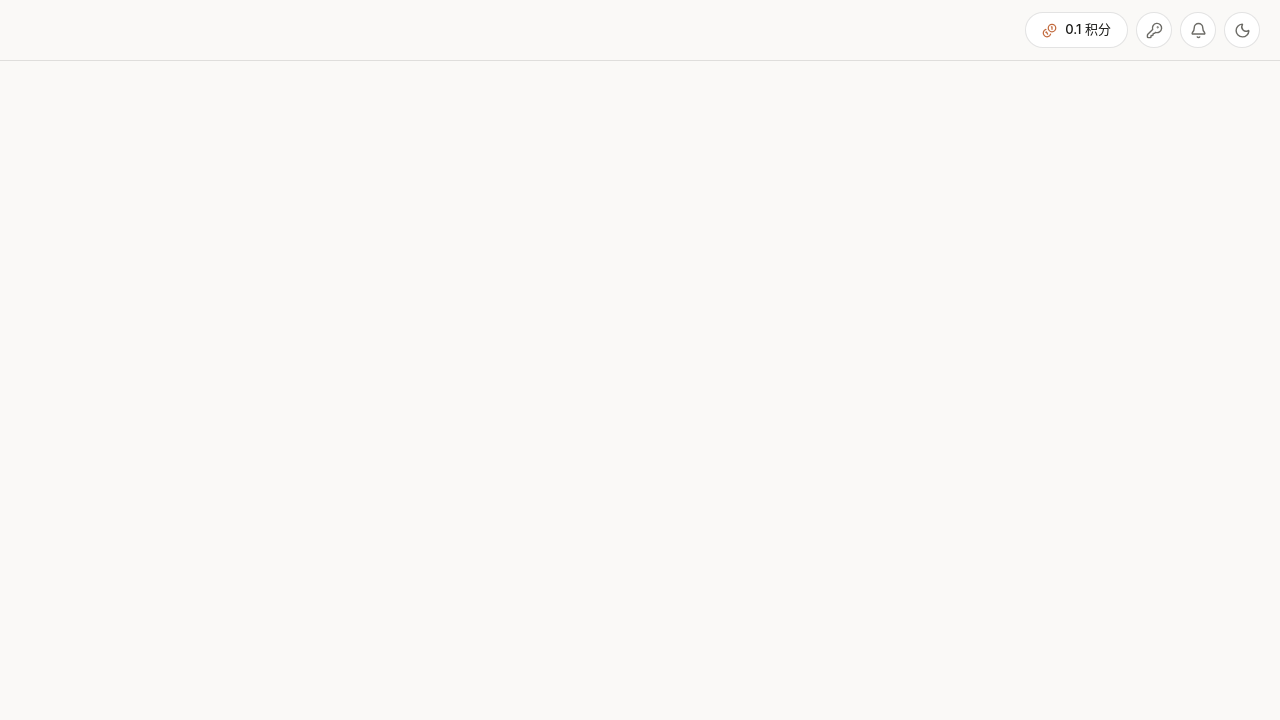
Test: TopBar key settings › shows current system mode and opens the API configuration modal
Step 1. Click the button named "生图 Key 设置：当前系统 Key" → {"x": 1154, "y": 30}, box [1136,12,1172,48]
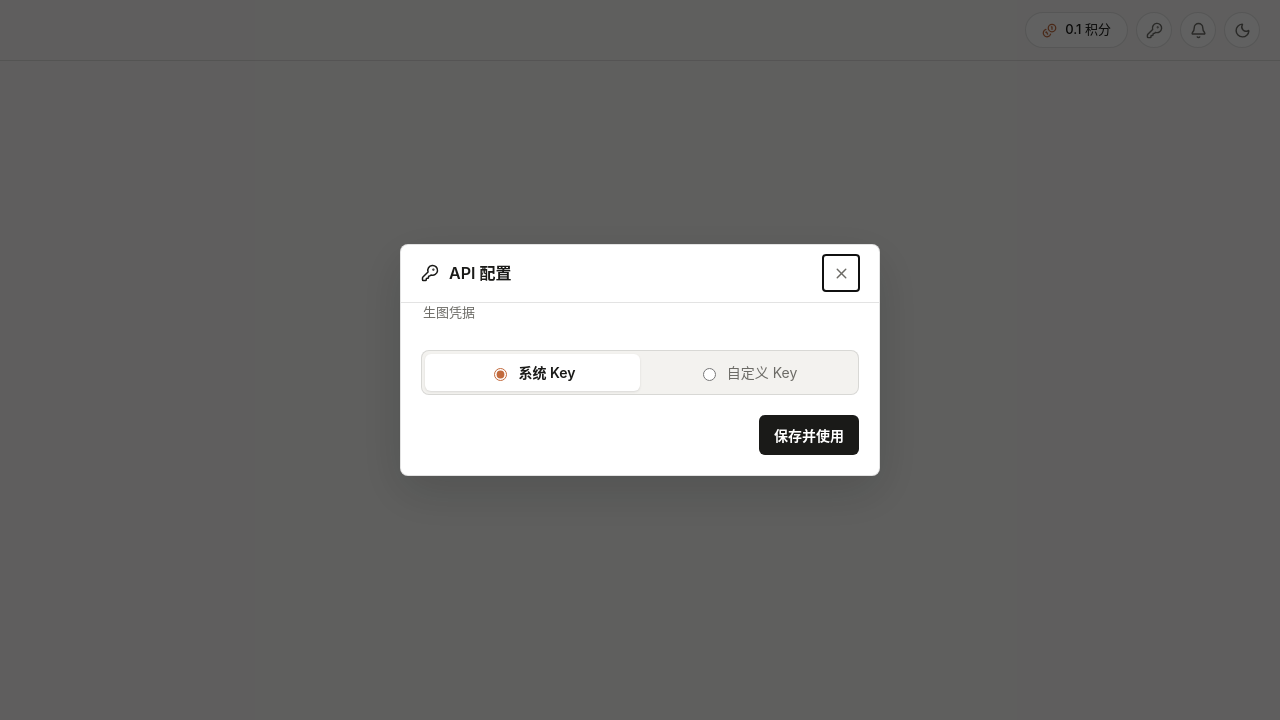
Now the dialog "API 配置" is shown, box [400,244,880,476]
